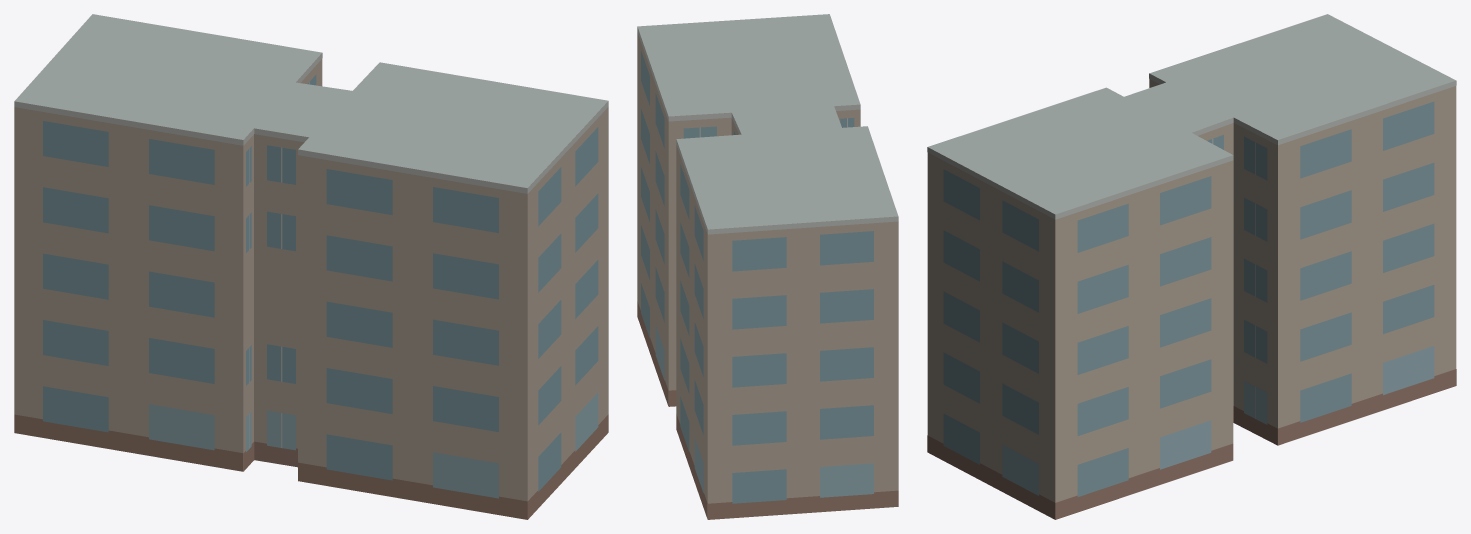
The model's file is survey-upis-32673064.glb.
3 renders of one model, left to right at view 1: azimuth 30°, elevation 25°; view 2: azimuth 150°, elevation 25°; view 3: azimuth 270°, elevation 25°, orthographic. The views are drawn at different scales.
Parts seen in each view (by area): view 1: survey-upis-32673064.tmp; view 2: survey-upis-32673064.tmp; view 3: survey-upis-32673064.tmp.
Boxes of the visible parts, x1=… form: survey-upis-32673064.tmp: x1=14, y1=14, x2=608, y2=519; survey-upis-32673064.tmp: x1=637, y1=14, x2=898, y2=519; survey-upis-32673064.tmp: x1=927, y1=14, x2=1456, y2=519.
Bounding box in the file's own units: 20 × 14.2 × 22.3.
